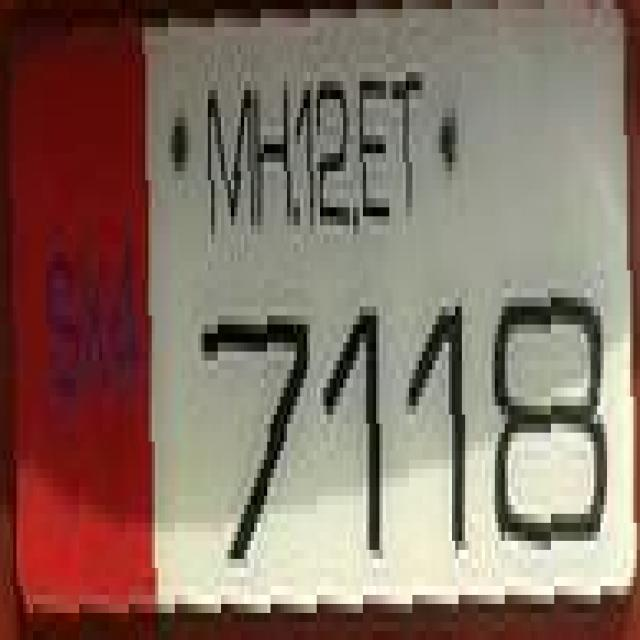license_plate: (26, 18, 640, 604)
